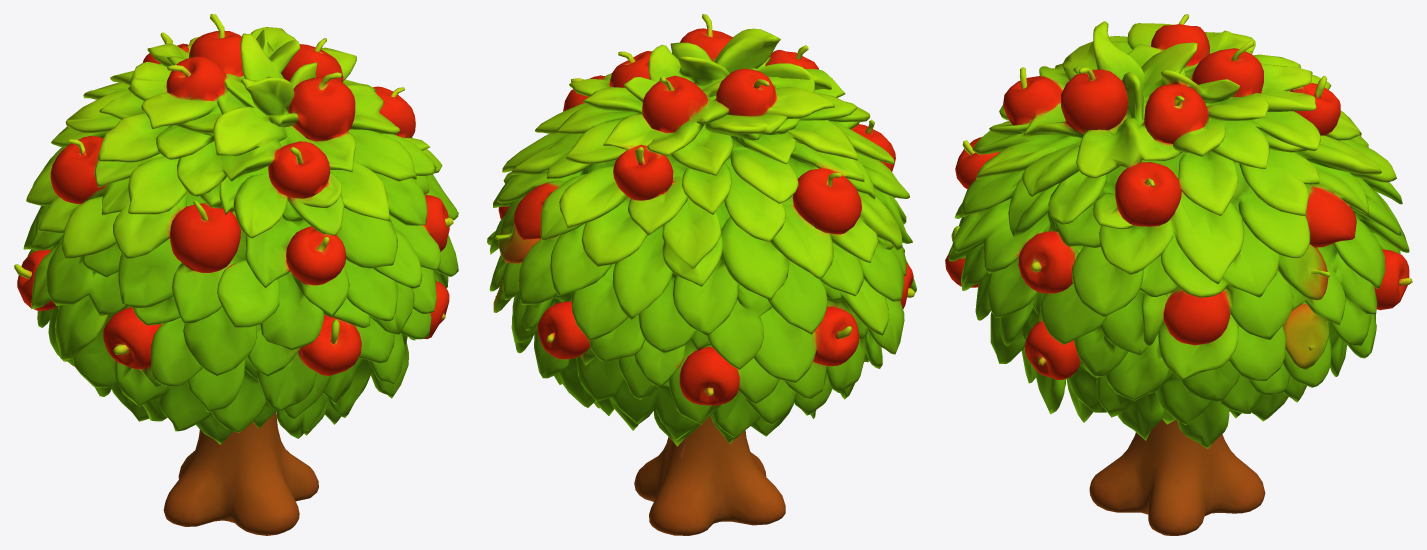
File: tree_apple.glb
3 views of the same model, side by side, from view 1: azimuth 30°, elevation 25°; view 2: azimuth 150°, elevation 25°; view 3: azimuth 270°, elevation 25° (orthographic). The views are drawn at different scales.
Visible parts, largest first — view 1: tripo_node_cadcc7b8-7c39-4cf0-8a8d-30622b45584d; view 2: tripo_node_cadcc7b8-7c39-4cf0-8a8d-30622b45584d; view 3: tripo_node_cadcc7b8-7c39-4cf0-8a8d-30622b45584d.
Boxes of the visible parts, x1,y1,x2,y2 form: tripo_node_cadcc7b8-7c39-4cf0-8a8d-30622b45584d: (14,14,458,535); tripo_node_cadcc7b8-7c39-4cf0-8a8d-30622b45584d: (487,14,916,535); tripo_node_cadcc7b8-7c39-4cf0-8a8d-30622b45584d: (945,14,1412,535).
Bounding box in the file's own units: 3.76 × 4.2 × 3.79.
Materials: 1 (1 with a texture image).
